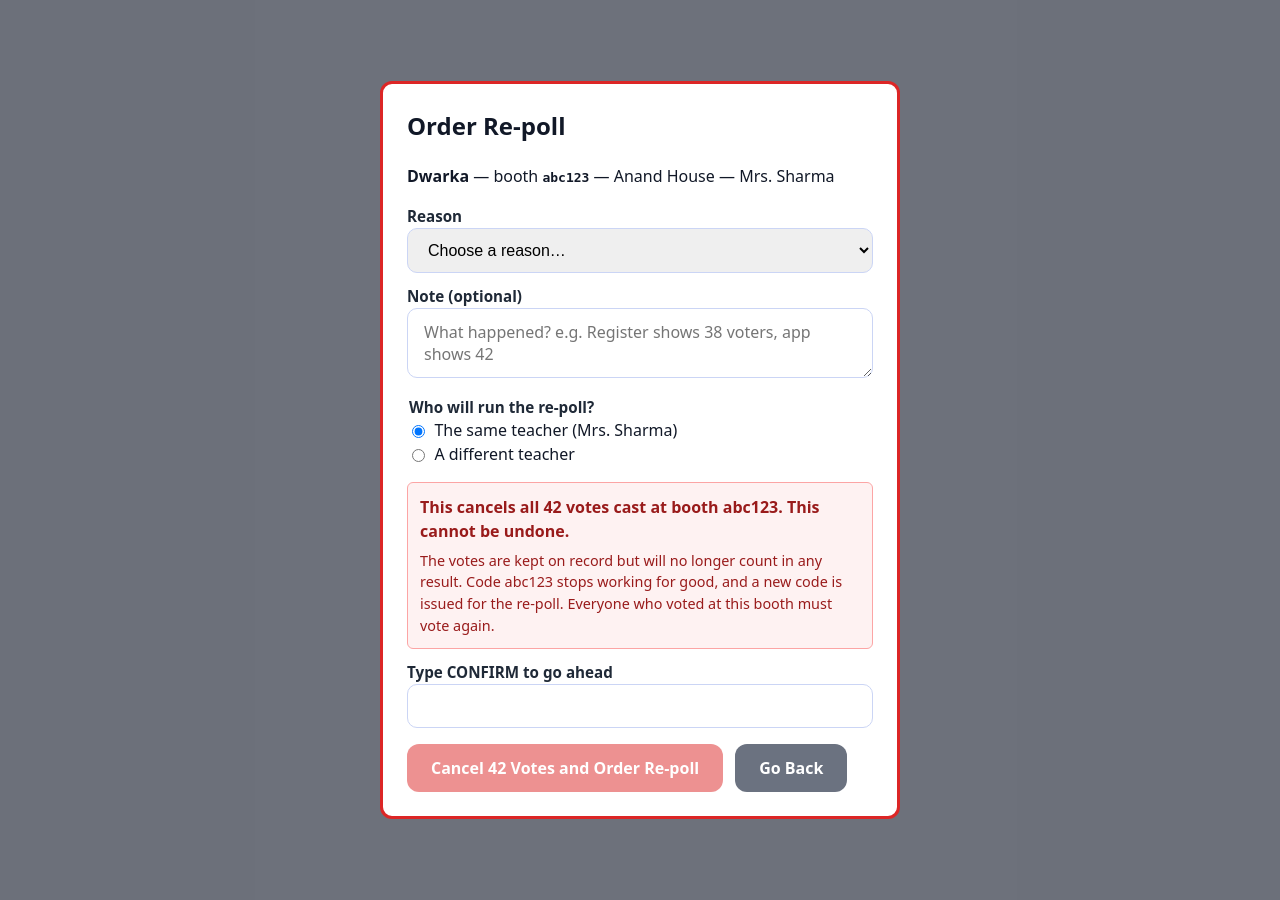
it: RepollDialog › shows the server's refusal
This screenshot has width=1280, height=900.
Select "Physical disruption" in the dropdown labelled "Reason" at (640,250), box 407,228 -> 873,273
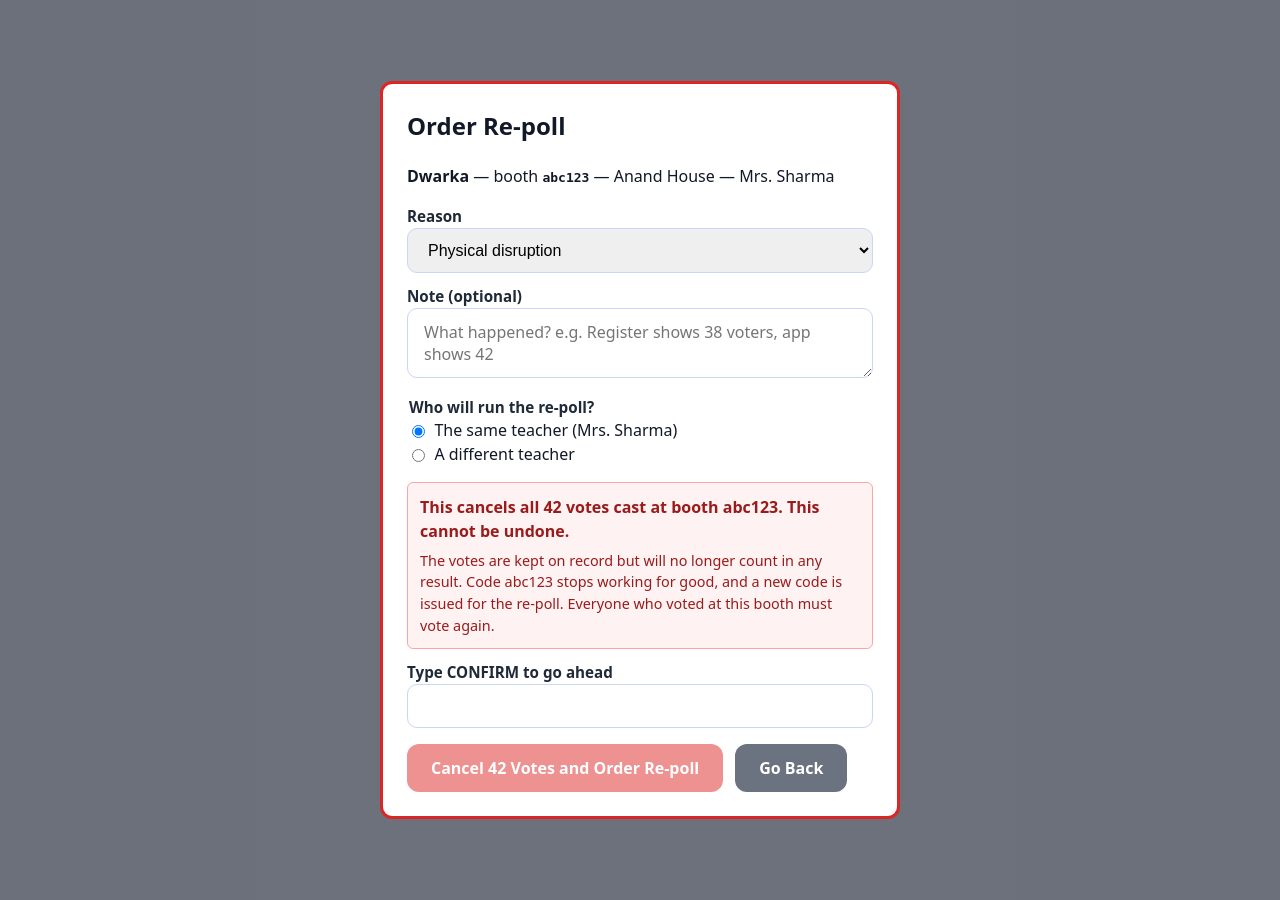
Type "CONFIRM" into the field labelled "Type CONFIRM to go ahead".
click(640, 706); type("CONFIRM")  # box 407,684 -> 873,728
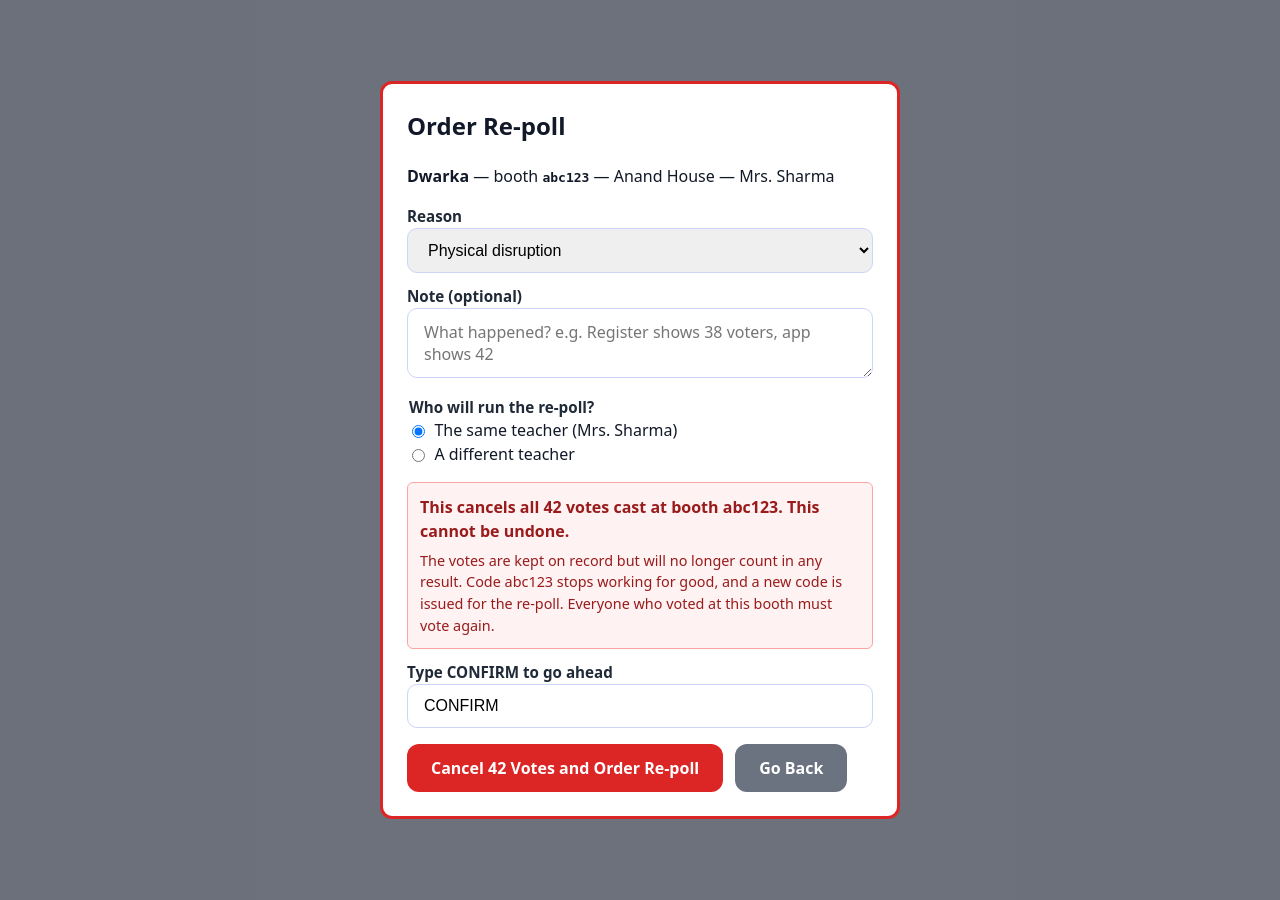
Click the button "Cancel 42 Votes and Order Re-poll".
click(565, 768)  # box 407,744 -> 723,792
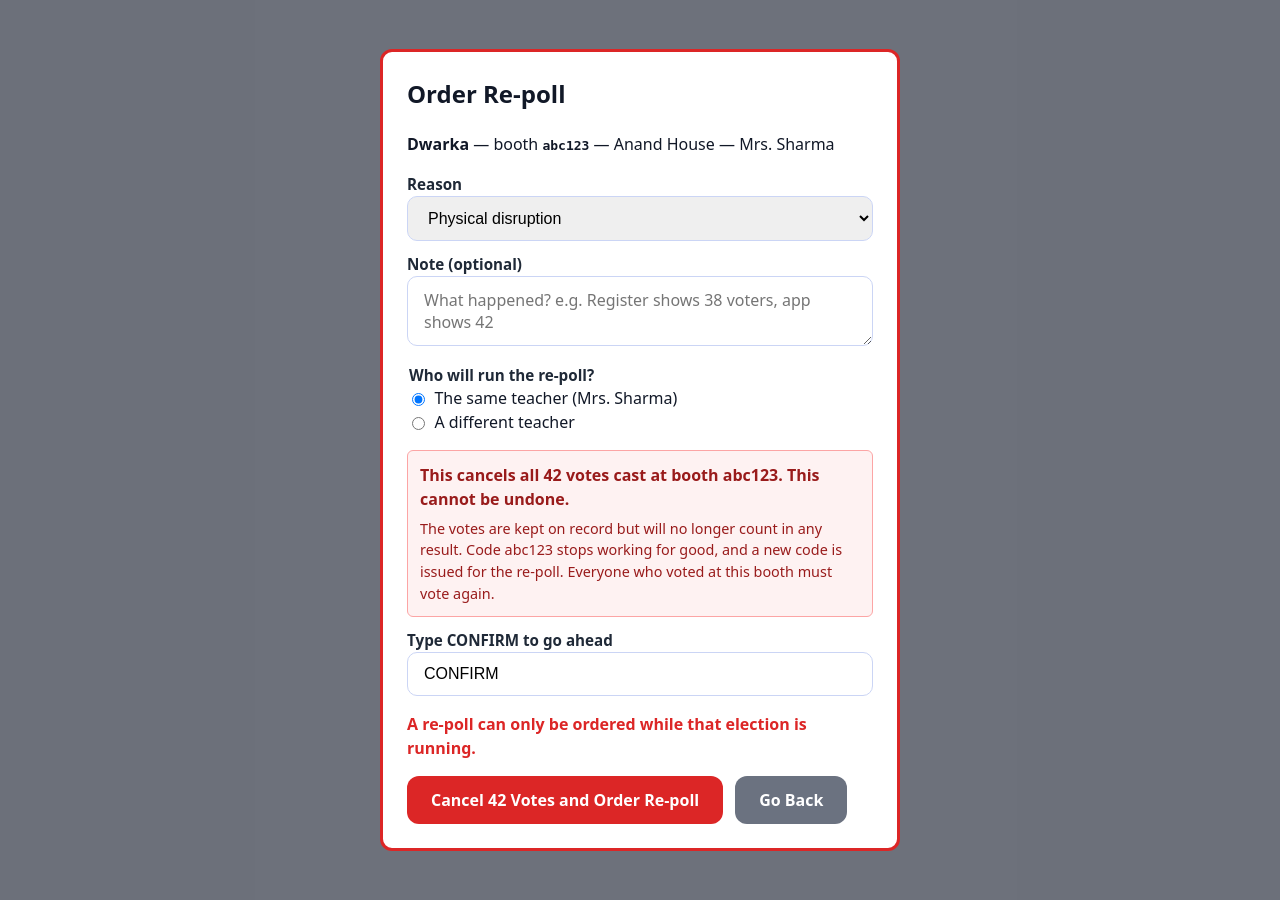
Check: the text "only be ordered while that election is running" is shown, box 407,713 -> 807,759
